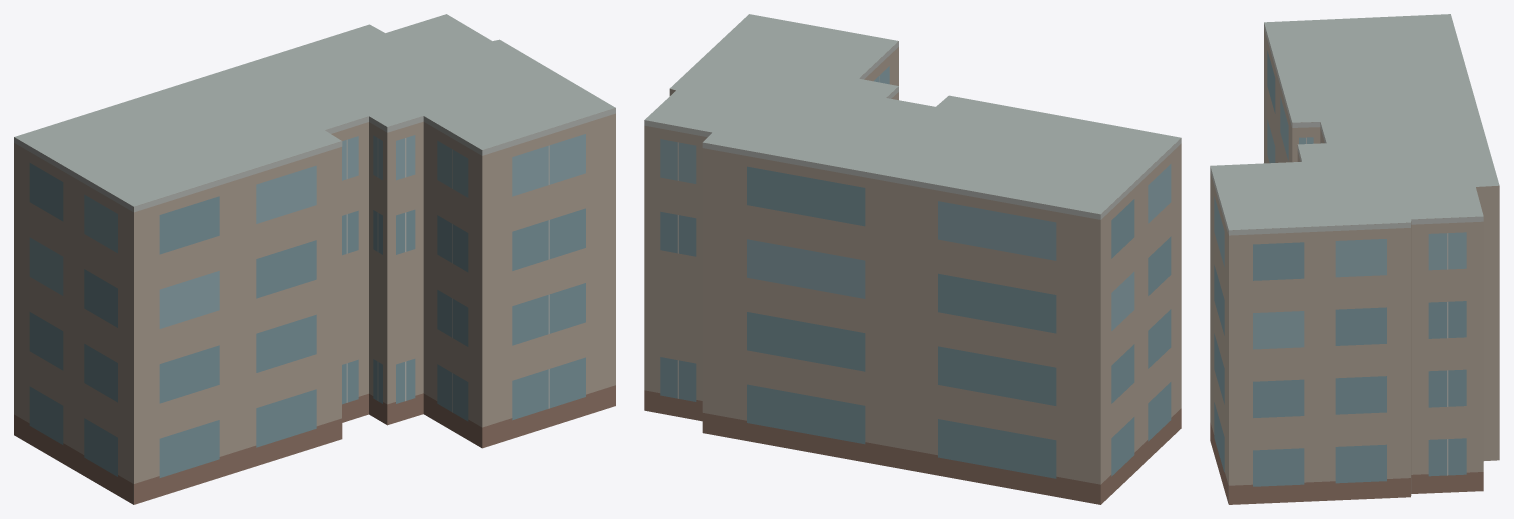
File: survey-upis-32666927.glb
The picture shows the model from 3 angles, left to right: view 1: azimuth 30°, elevation 25°; view 2: azimuth 150°, elevation 25°; view 3: azimuth 270°, elevation 25°; orthographic projection. The views are drawn at different scales.
Parts seen in each view (by area): view 1: survey-upis-32666927.tmp; view 2: survey-upis-32666927.tmp; view 3: survey-upis-32666927.tmp.
Part boxes in pixels (bbox=[...]): survey-upis-32666927.tmp: bbox=[14, 14, 615, 504]; survey-upis-32666927.tmp: bbox=[644, 14, 1181, 504]; survey-upis-32666927.tmp: bbox=[1210, 14, 1499, 504].
Size of the model in its own units: 21.46 by 12.7 by 12.14.
